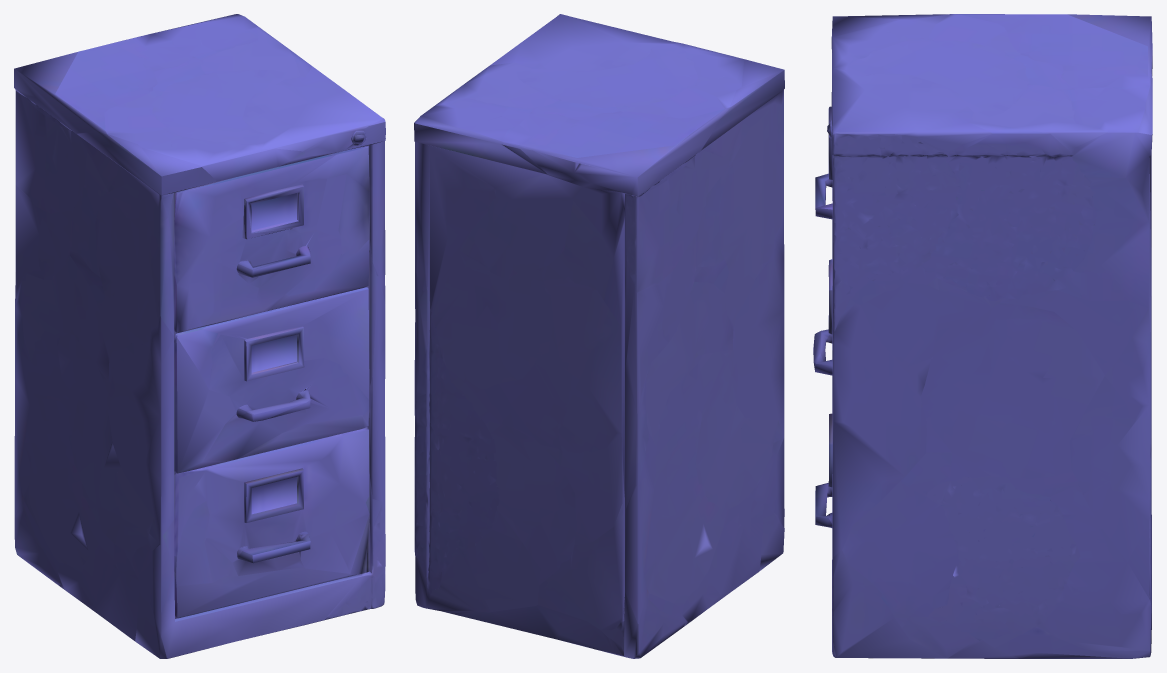
Rendered from model.progressive.glb.
3 renders of one model, left to right at view 1: azimuth 30°, elevation 25°; view 2: azimuth 150°, elevation 25°; view 3: azimuth 270°, elevation 25°, orthographic. The views are drawn at different scales.
Parts seen in each view (by area): view 1: FillingCabinet6; view 2: FillingCabinet6; view 3: FillingCabinet6.
Part boxes in pixels (bbox=[...]): FillingCabinet6: bbox=[14, 14, 385, 658]; FillingCabinet6: bbox=[414, 14, 784, 658]; FillingCabinet6: bbox=[813, 14, 1152, 658].
Bounding box in the file's own units: 0.4654 × 0.9638 × 0.5597.
Materials: 1 (1 with a texture image).
